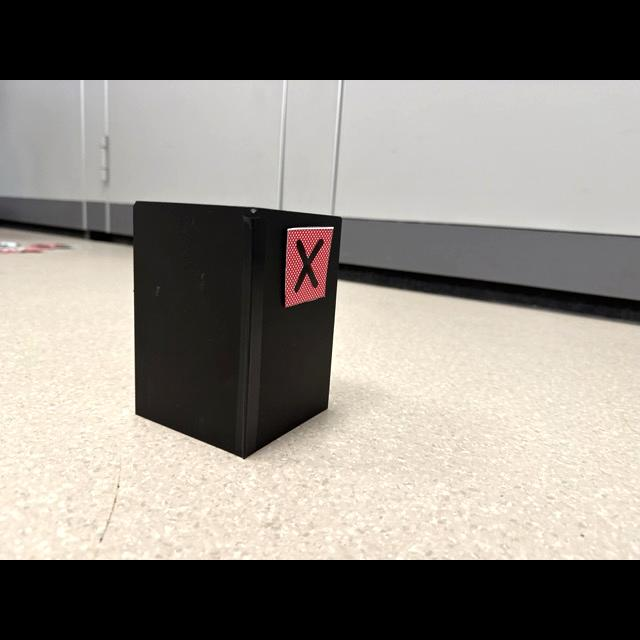X: (294, 239, 323, 292)
